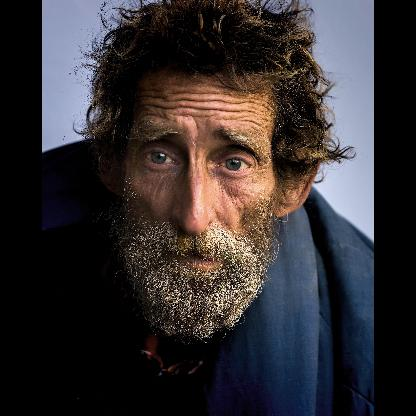Male: (94, 67, 318, 332)
